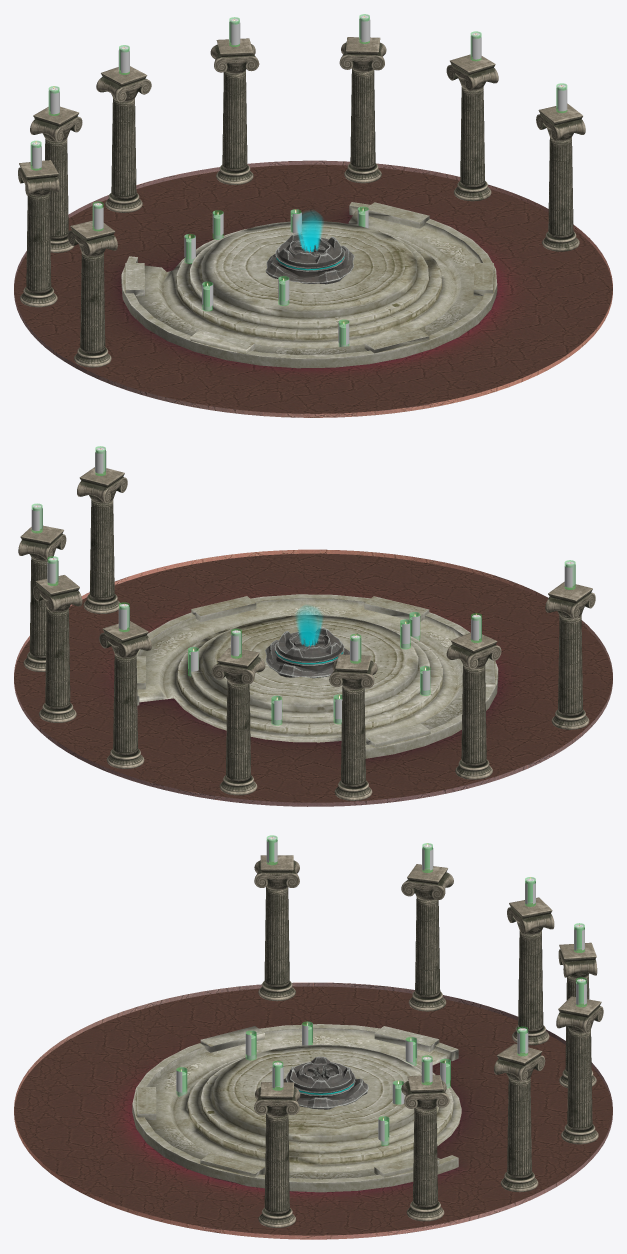
Rendered from altar81.glb.
3 renders of one model, top to bottom at view 1: azimuth 30°, elevation 25°; view 2: azimuth 150°, elevation 25°; view 3: azimuth 270°, elevation 25°, orthographic.
Parts seen in each view (by area): view 1: Floor, Floor2.002, Ionic_Column, Ionic_Column__0.003, Ionic_Column__0.004, Ionic_Column__0.001, Ionic_Column__0.002, Ionic_Column__0.007, Ionic_Column__0.006, Object_2.001, Ionic_Column__0.005, Object_3; view 2: Floor, Floor2.002, Ionic_Column__0.006, Ionic_Column__0.004, Ionic_Column__0.005, Ionic_Column__0.007, Ionic_Column, Ionic_Column__0.003, Ionic_Column__0.002, Object_2.001, Ionic_Column__0.001, Object_3; view 3: Floor, Floor2.002, Ionic_Column__0.006, Ionic_Column__0.007, Ionic_Column__0.002, Ionic_Column__0.001, Ionic_Column__0.003, Ionic_Column, Ionic_Column__0.005, Object_2.001, Ionic_Column__0.004.
Boxes of the visible parts, x1,y1,x2,y2 form: Floor: (14,160,612,417); Floor2.002: (121,202,497,368); Ionic_Column: (339,37,386,183); Ionic_Column__0.003: (210,38,259,184); Ionic_Column__0.004: (96,66,151,212); Ionic_Column__0.001: (446,54,498,201); Ionic_Column__0.002: (536,103,585,251); Ionic_Column__0.007: (67,220,117,367); Ionic_Column__0.006: (18,160,59,307); Object_2.001: (265,233,354,284); Ionic_Column__0.005: (30,106,82,252); Object_3: (297,212,322,252); Floor: (14,549,612,806); Floor2.002: (136,594,498,758); Ionic_Column__0.006: (446,632,501,779); Ionic_Column__0.004: (211,647,265,795); Ionic_Column__0.005: (329,654,377,800); Ionic_Column__0.007: (545,581,595,729); Ionic_Column: (33,575,82,722); Ionic_Column__0.003: (99,621,151,768); Ionic_Column__0.002: (77,467,127,613); Object_2.001: (265,627,349,678); Ionic_Column__0.001: (18,525,66,671); Object_3: (297,606,322,646); Floor: (14,982,612,1239); Floor2.002: (132,1024,461,1192); Ionic_Column__0.006: (401,864,453,1011); Ionic_Column__0.007: (254,855,299,1001); Ionic_Column__0.002: (254,1082,300,1227); Ionic_Column__0.001: (401,1075,449,1221); Ionic_Column__0.003: (556,996,603,1144); Ionic_Column: (494,1043,545,1192); Ionic_Column__0.005: (507,897,554,1045); Object_2.001: (283,1056,368,1109); Ionic_Column__0.004: (558,942,597,1088).
Bounding box in the file's own units: 60 × 19.37 × 60.
Materials: 11 (6 with a texture image).
